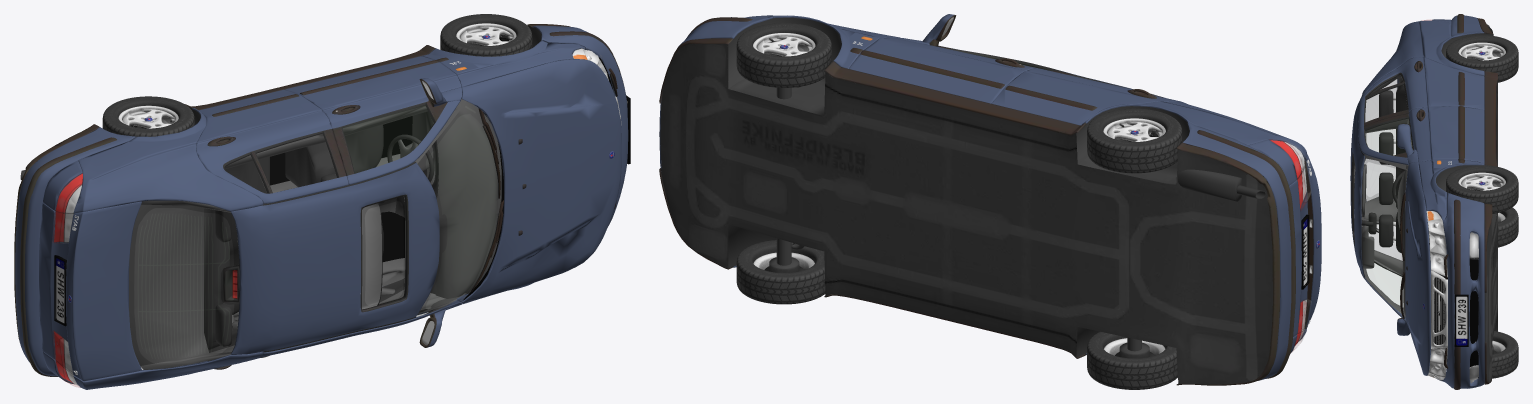
The picture shows the model from 3 angles, left to right: view 1: azimuth 30°, elevation 25°; view 2: azimuth 150°, elevation 25°; view 3: azimuth 270°, elevation 25°; orthographic projection. The views are drawn at different scales.
Parts seen in each view (by area): view 1: Body_Roof, Body_Hood, Body_Trunk, Inner_Back, Body_Wing_Back, Inner_Dashboard, Body_Door_Front, Body_Door_Back, Bumper_Back, Seat_Back, Body_Wing_Front, Glass_Back (+20 smaller); view 2: Wheel_Bottom, Body_Door_Front, Body_Door_Back, #Wheel_Tire_FL|Tire_0_L_saab_wheel.blend|Dupli|_M_Wheel_Tire, #Wheel_Tire_BL|Tire_0_L_saab_wheel.blend|Dupli|_M_Wheel_Tire, Bumper_Back, Wheel_Ark_Front, #Wheel_Tire_FR|Tire_0_L_saab_wheel.blend|Dupli|_M_Wheel_Tire, Threshold, Body_Trunk, #Wheel_Tire_BR|Tire_0_L_saab_wheel.blend|Dupli|_M_Wheel_Tire, Body_Wing_Back (+13 smaller); view 3: Bumper_Front, Body_Door_Front, Body_Hood, Body_Door_Back, Body_Wing_Front, Body_Wing_Back, #Wheel_Tire_FL|Tire_0_L_saab_wheel.blend|Dupli|_M_Wheel_Tire, Wheel_Bottom, #Wheel_Tire_BL|Tire_0_L_saab_wheel.blend|Dupli|_M_Wheel_Tire, Body_Roof, Lattice_Front, Seat_Back (+24 smaller).
Part boxes in pixels (left/top/right/bottom): Body_Roof: left=223, top=161, right=439, bottom=354; Body_Hood: left=461, top=59, right=621, bottom=304; Body_Trunk: left=39, top=201, right=141, bottom=381; Inner_Back: left=129, top=200, right=231, bottom=369; Body_Wing_Back: left=55, top=108, right=263, bottom=389; Inner_Dashboard: left=270, top=99, right=501, bottom=298; Body_Door_Front: left=285, top=56, right=461, bottom=337; Body_Door_Back: left=196, top=89, right=348, bottom=371; Bumper_Back: left=15, top=127, right=135, bottom=376; Seat_Back: left=204, top=157, right=269, bottom=350; Body_Wing_Front: left=422, top=40, right=608, bottom=301; Glass_Back: left=129, top=201, right=239, bottom=369; Wheel_Bottom: left=660, top=44, right=1272, bottom=384; Body_Door_Front: left=849, top=37, right=1085, bottom=103; Body_Door_Back: left=991, top=68, right=1180, bottom=125; #Wheel_Tire_FL|Tire_0_L_saab_wheel.blend|Dupli|_M_Wheel_Tire: left=736, top=23, right=831, bottom=87; #Wheel_Tire_BL|Tire_0_L_saab_wheel.blend|Dupli|_M_Wheel_Tire: left=1087, top=108, right=1182, bottom=173; Bumper_Back: left=1183, top=121, right=1295, bottom=380; Wheel_Ark_Front: left=727, top=17, right=841, bottom=268; #Wheel_Tire_FR|Tire_0_L_saab_wheel.blend|Dupli|_M_Wheel_Tire: left=736, top=240, right=825, bottom=304; Threshold: left=824, top=61, right=1086, bottom=358; Body_Trunk: left=1289, top=154, right=1321, bottom=337; #Wheel_Tire_BR|Tire_0_L_saab_wheel.blend|Dupli|_M_Wheel_Tire: left=1087, top=331, right=1177, bottom=389; Body_Wing_Back: left=1081, top=101, right=1306, bottom=354; Bumper_Front: left=1440, top=192, right=1484, bottom=388; Body_Door_Front: left=1358, top=106, right=1484, bottom=322; Body_Hood: left=1405, top=162, right=1430, bottom=375; Body_Door_Back: left=1358, top=57, right=1484, bottom=240; Body_Wing_Front: left=1418, top=159, right=1484, bottom=381; Body_Wing_Back: left=1362, top=20, right=1484, bottom=96; #Wheel_Tire_FL|Tire_0_L_saab_wheel.blend|Dupli|_M_Wheel_Tire: left=1446, top=165, right=1518, bottom=213; Wheel_Bottom: left=1484, top=81, right=1497, bottom=382; #Wheel_Tire_BL|Tire_0_L_saab_wheel.blend|Dupli|_M_Wheel_Tire: left=1446, top=35, right=1518, bottom=82; Body_Roof: left=1350, top=96, right=1366, bottom=277; Lattice_Front: left=1431, top=270, right=1447, bottom=348; Seat_Back: left=1379, top=80, right=1407, bottom=208.
Bounding box in the file's own units: 4.82 × 2.02 × 1.47.
19 materials, 10 textured.
